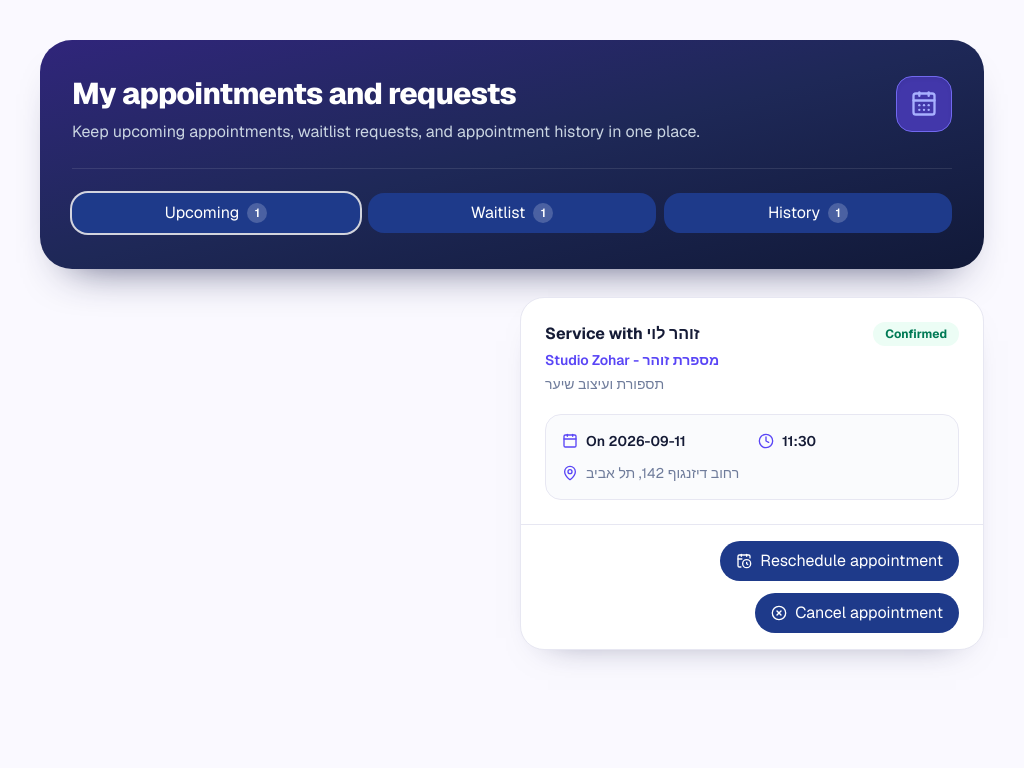
Test: appointments panel › cancels through the API and refreshes the server data
Click the button "Cancel appointment": [857, 613] box [755,593,959,633]
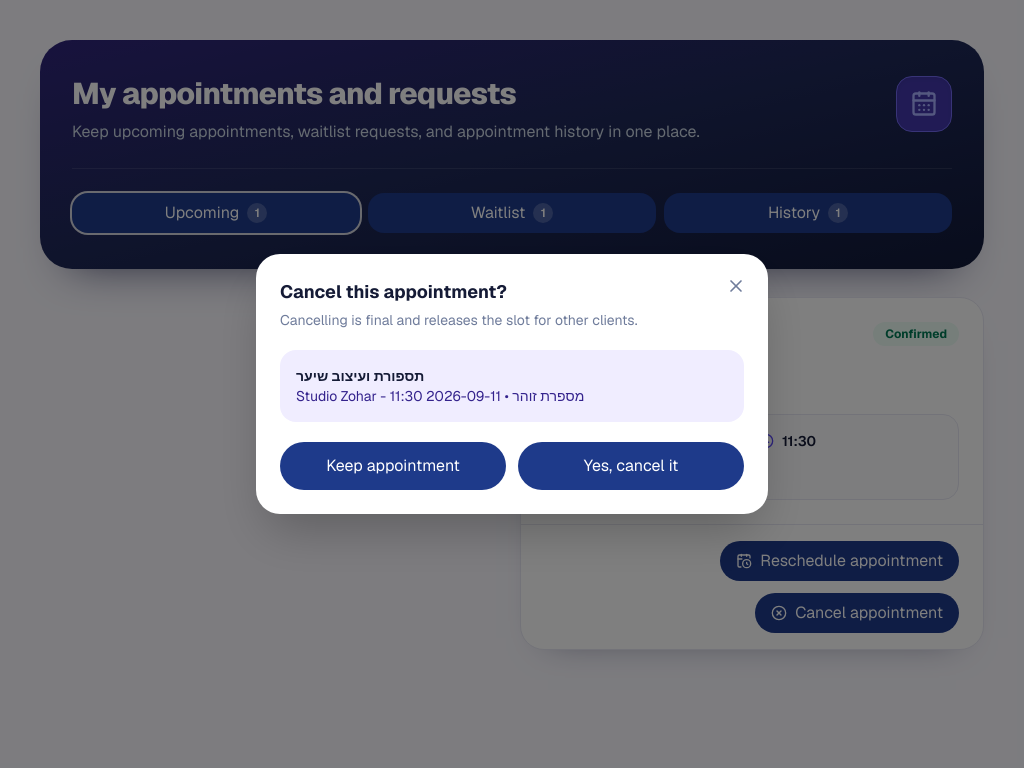
Click the button "Yes, cancel it": [631, 466] box [518,442,744,490]
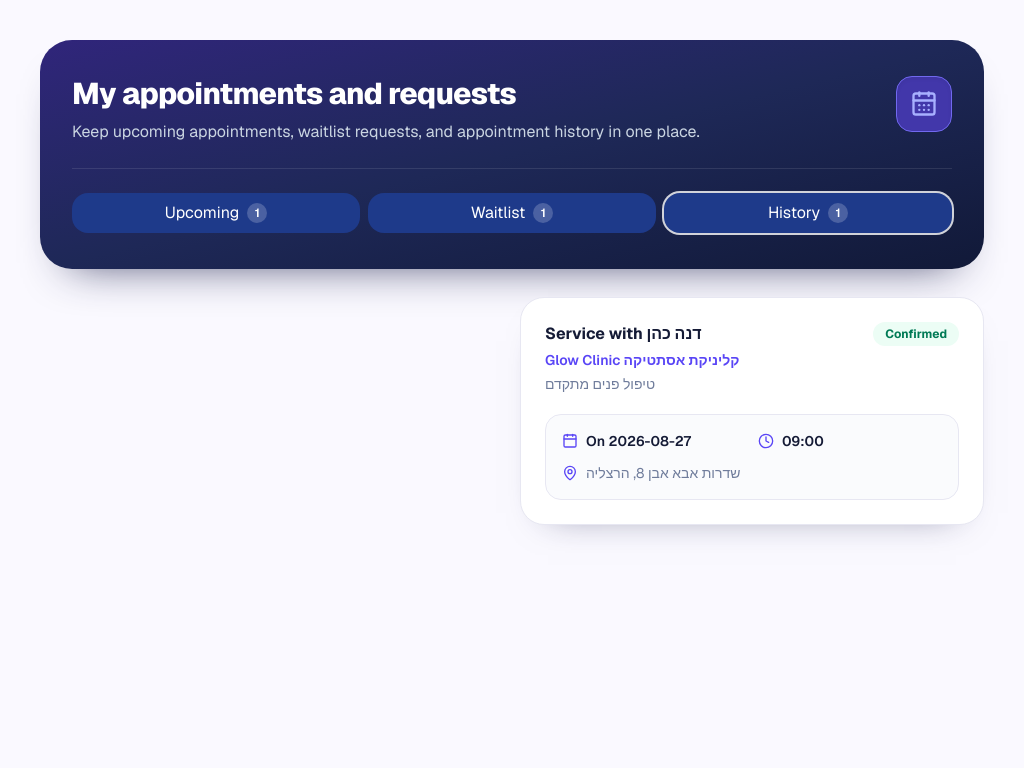
Expected: the dialog is gone
